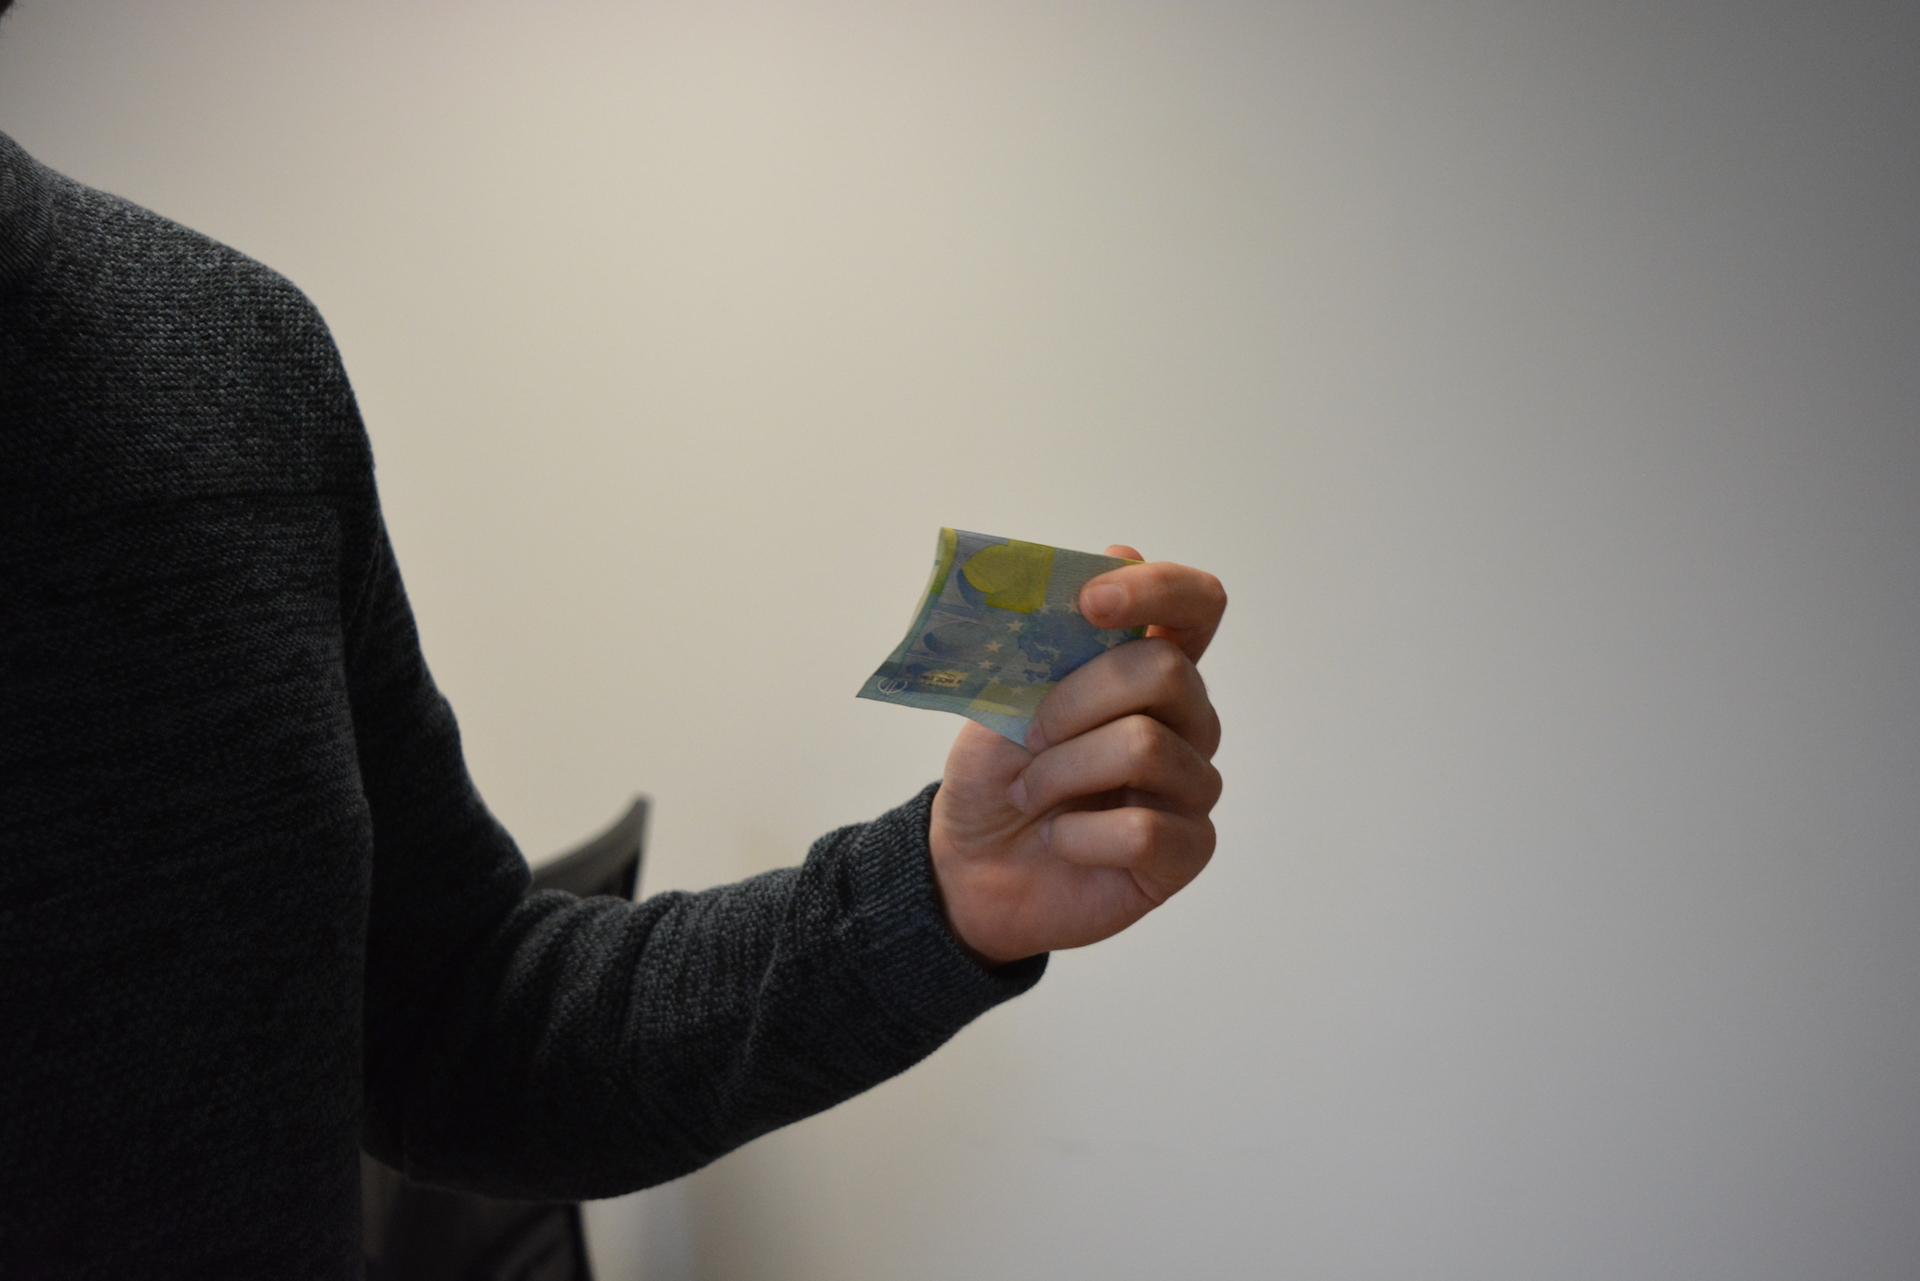billete: (853, 526, 1152, 751)
